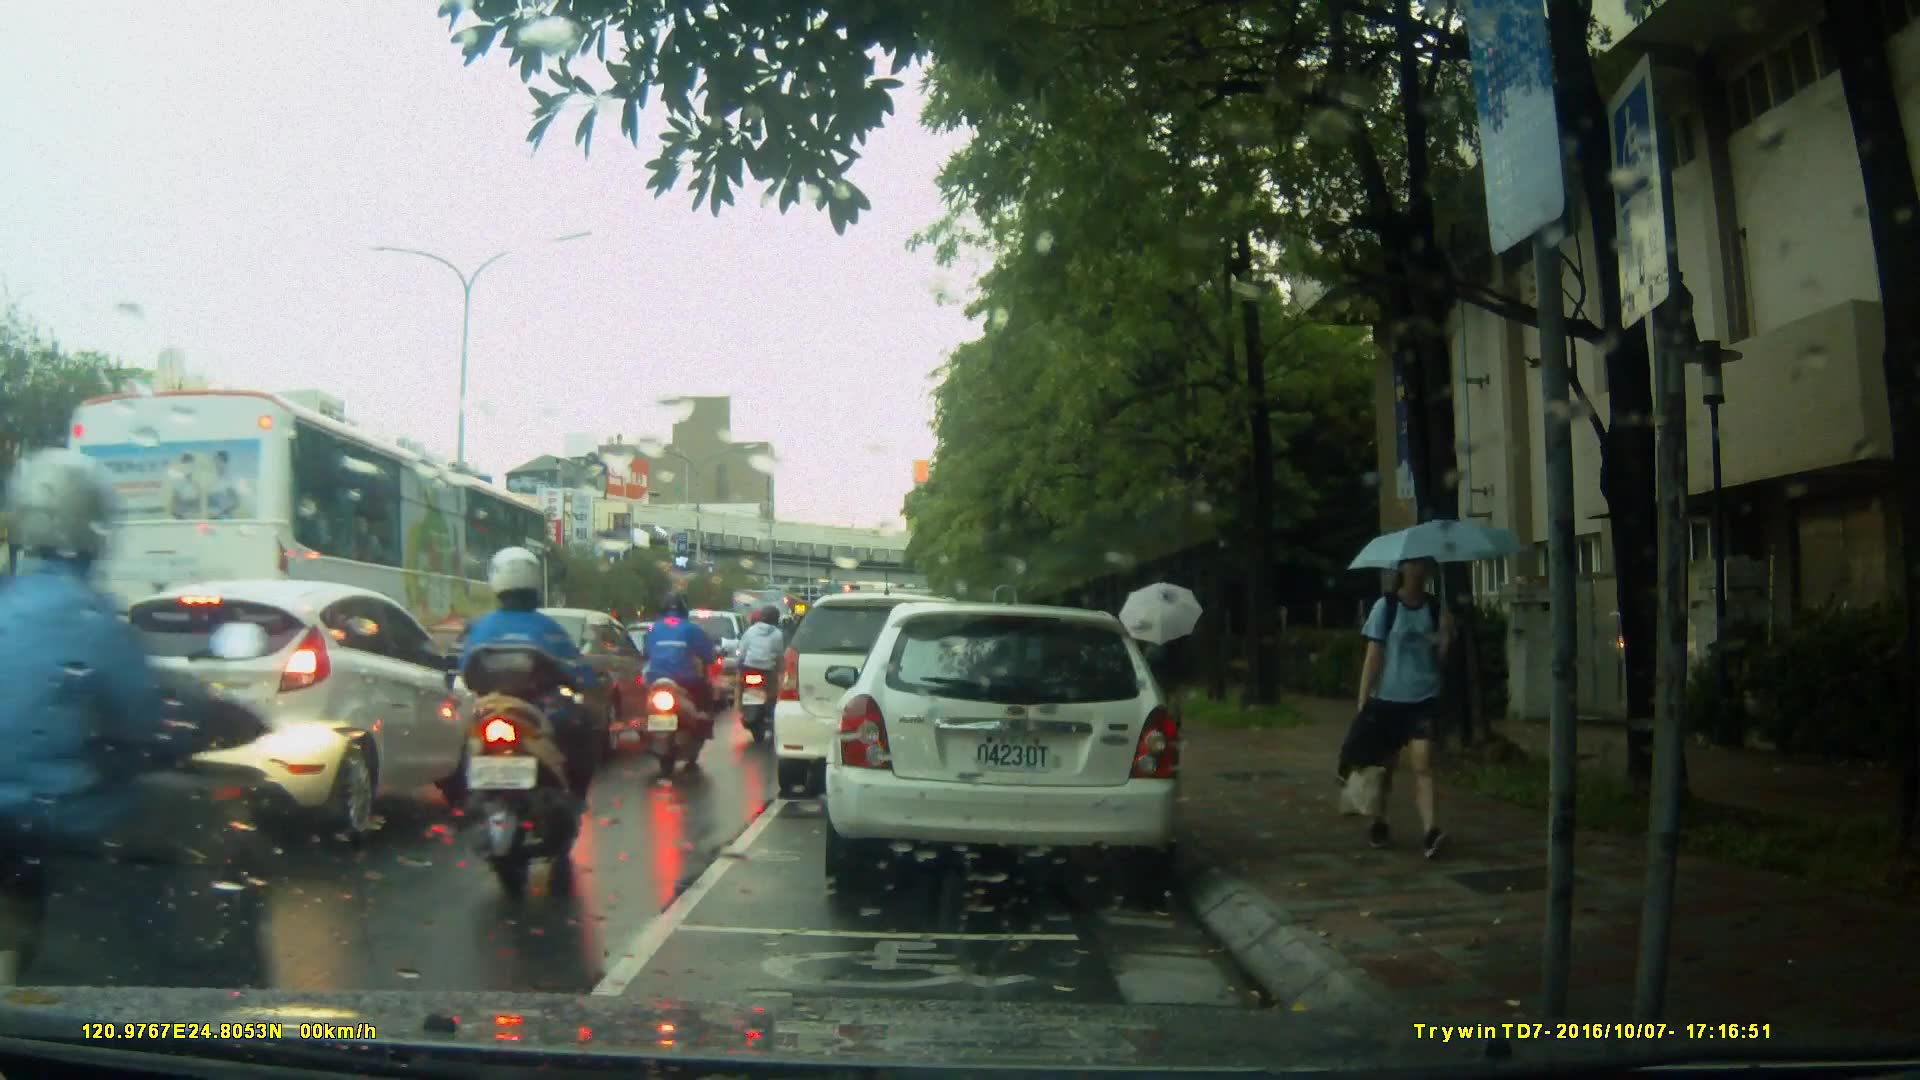pedestrian: (1339, 534, 1490, 859)
rider: (1, 458, 284, 1080), (458, 548, 605, 883), (640, 595, 722, 774), (741, 598, 802, 748)
vehicle: (58, 382, 558, 741), (835, 594, 1194, 898), (96, 576, 486, 846), (776, 590, 1026, 784), (419, 605, 663, 751), (1, 586, 155, 697), (610, 619, 723, 717)
